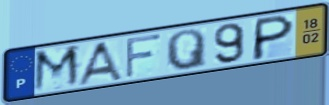9: (212, 22, 247, 65)
A: (74, 39, 125, 87)
F: (124, 31, 164, 80)
M: (30, 43, 82, 95)
P: (249, 13, 297, 63)
Q: (164, 28, 209, 72)
